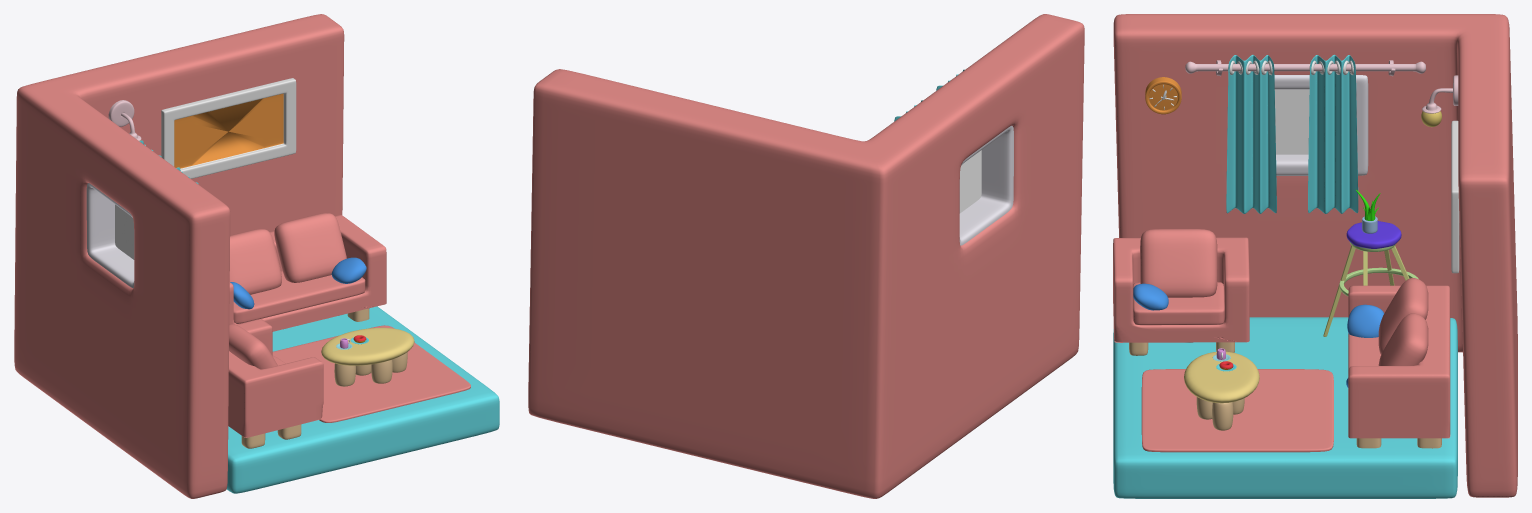
Rendered from livingroom.glb.
3 views of the same model, side by side, from view 1: azimuth 30°, elevation 25°; view 2: azimuth 150°, elevation 25°; view 3: azimuth 270°, elevation 25° (orthographic). The views are drawn at different scales.
Visible parts, largest first — view 1: wall, floor, painting, couch, couch.001, Rug, cusion.001, window, cusion, Circle, cusion.002, throwcushion.001 (+2 smaller); view 2: wall, window; view 3: wall, floor, Rug, couch, couch.001, curtain, curtain.001, cusion.002, window, Circle, cusion.001, cusion (+11 smaller).
Boxes of the visible parts, <box> form: wall: <box>14,14,344,498</box>; floor: <box>226,306,499,493</box>; painting: <box>161,78,296,178</box>; couch: <box>229,215,386,331</box>; couch.001: <box>228,319,323,437</box>; Rug: <box>272,325,470,422</box>; cusion.001: <box>274,213,346,282</box>; window: <box>86,183,134,288</box>; cusion: <box>229,229,281,294</box>; Circle: <box>321,327,414,365</box>; cusion.002: <box>229,324,277,369</box>; throwcushion.001: <box>331,257,366,283</box>; wall: <box>528,14,1084,498</box>; window: <box>959,125,1013,245</box>; wall: <box>1113,14,1517,497</box>; floor: <box>1113,317,1457,498</box>; Rug: <box>1141,369,1333,452</box>; couch: <box>1348,285,1450,438</box>; couch.001: <box>1113,237,1249,342</box>; curtain: <box>1226,54,1276,213</box>; curtain.001: <box>1308,54,1358,213</box>; cusion.002: <box>1140,229,1217,297</box>; window: <box>1274,75,1368,175</box>; Circle: <box>1184,351,1259,403</box>; cusion.001: <box>1378,313,1428,365</box>; cusion: <box>1378,278,1428,354</box>.
Size of what is drawn, in the model's own units: 3.52 by 3.15 by 3.58.
